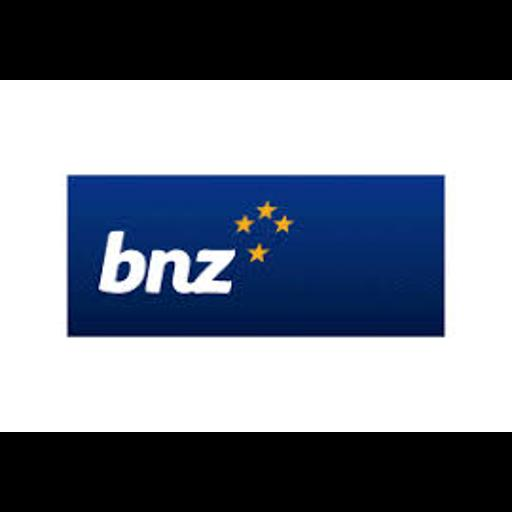Bank of New Zealand: (0, 80, 512, 432)
